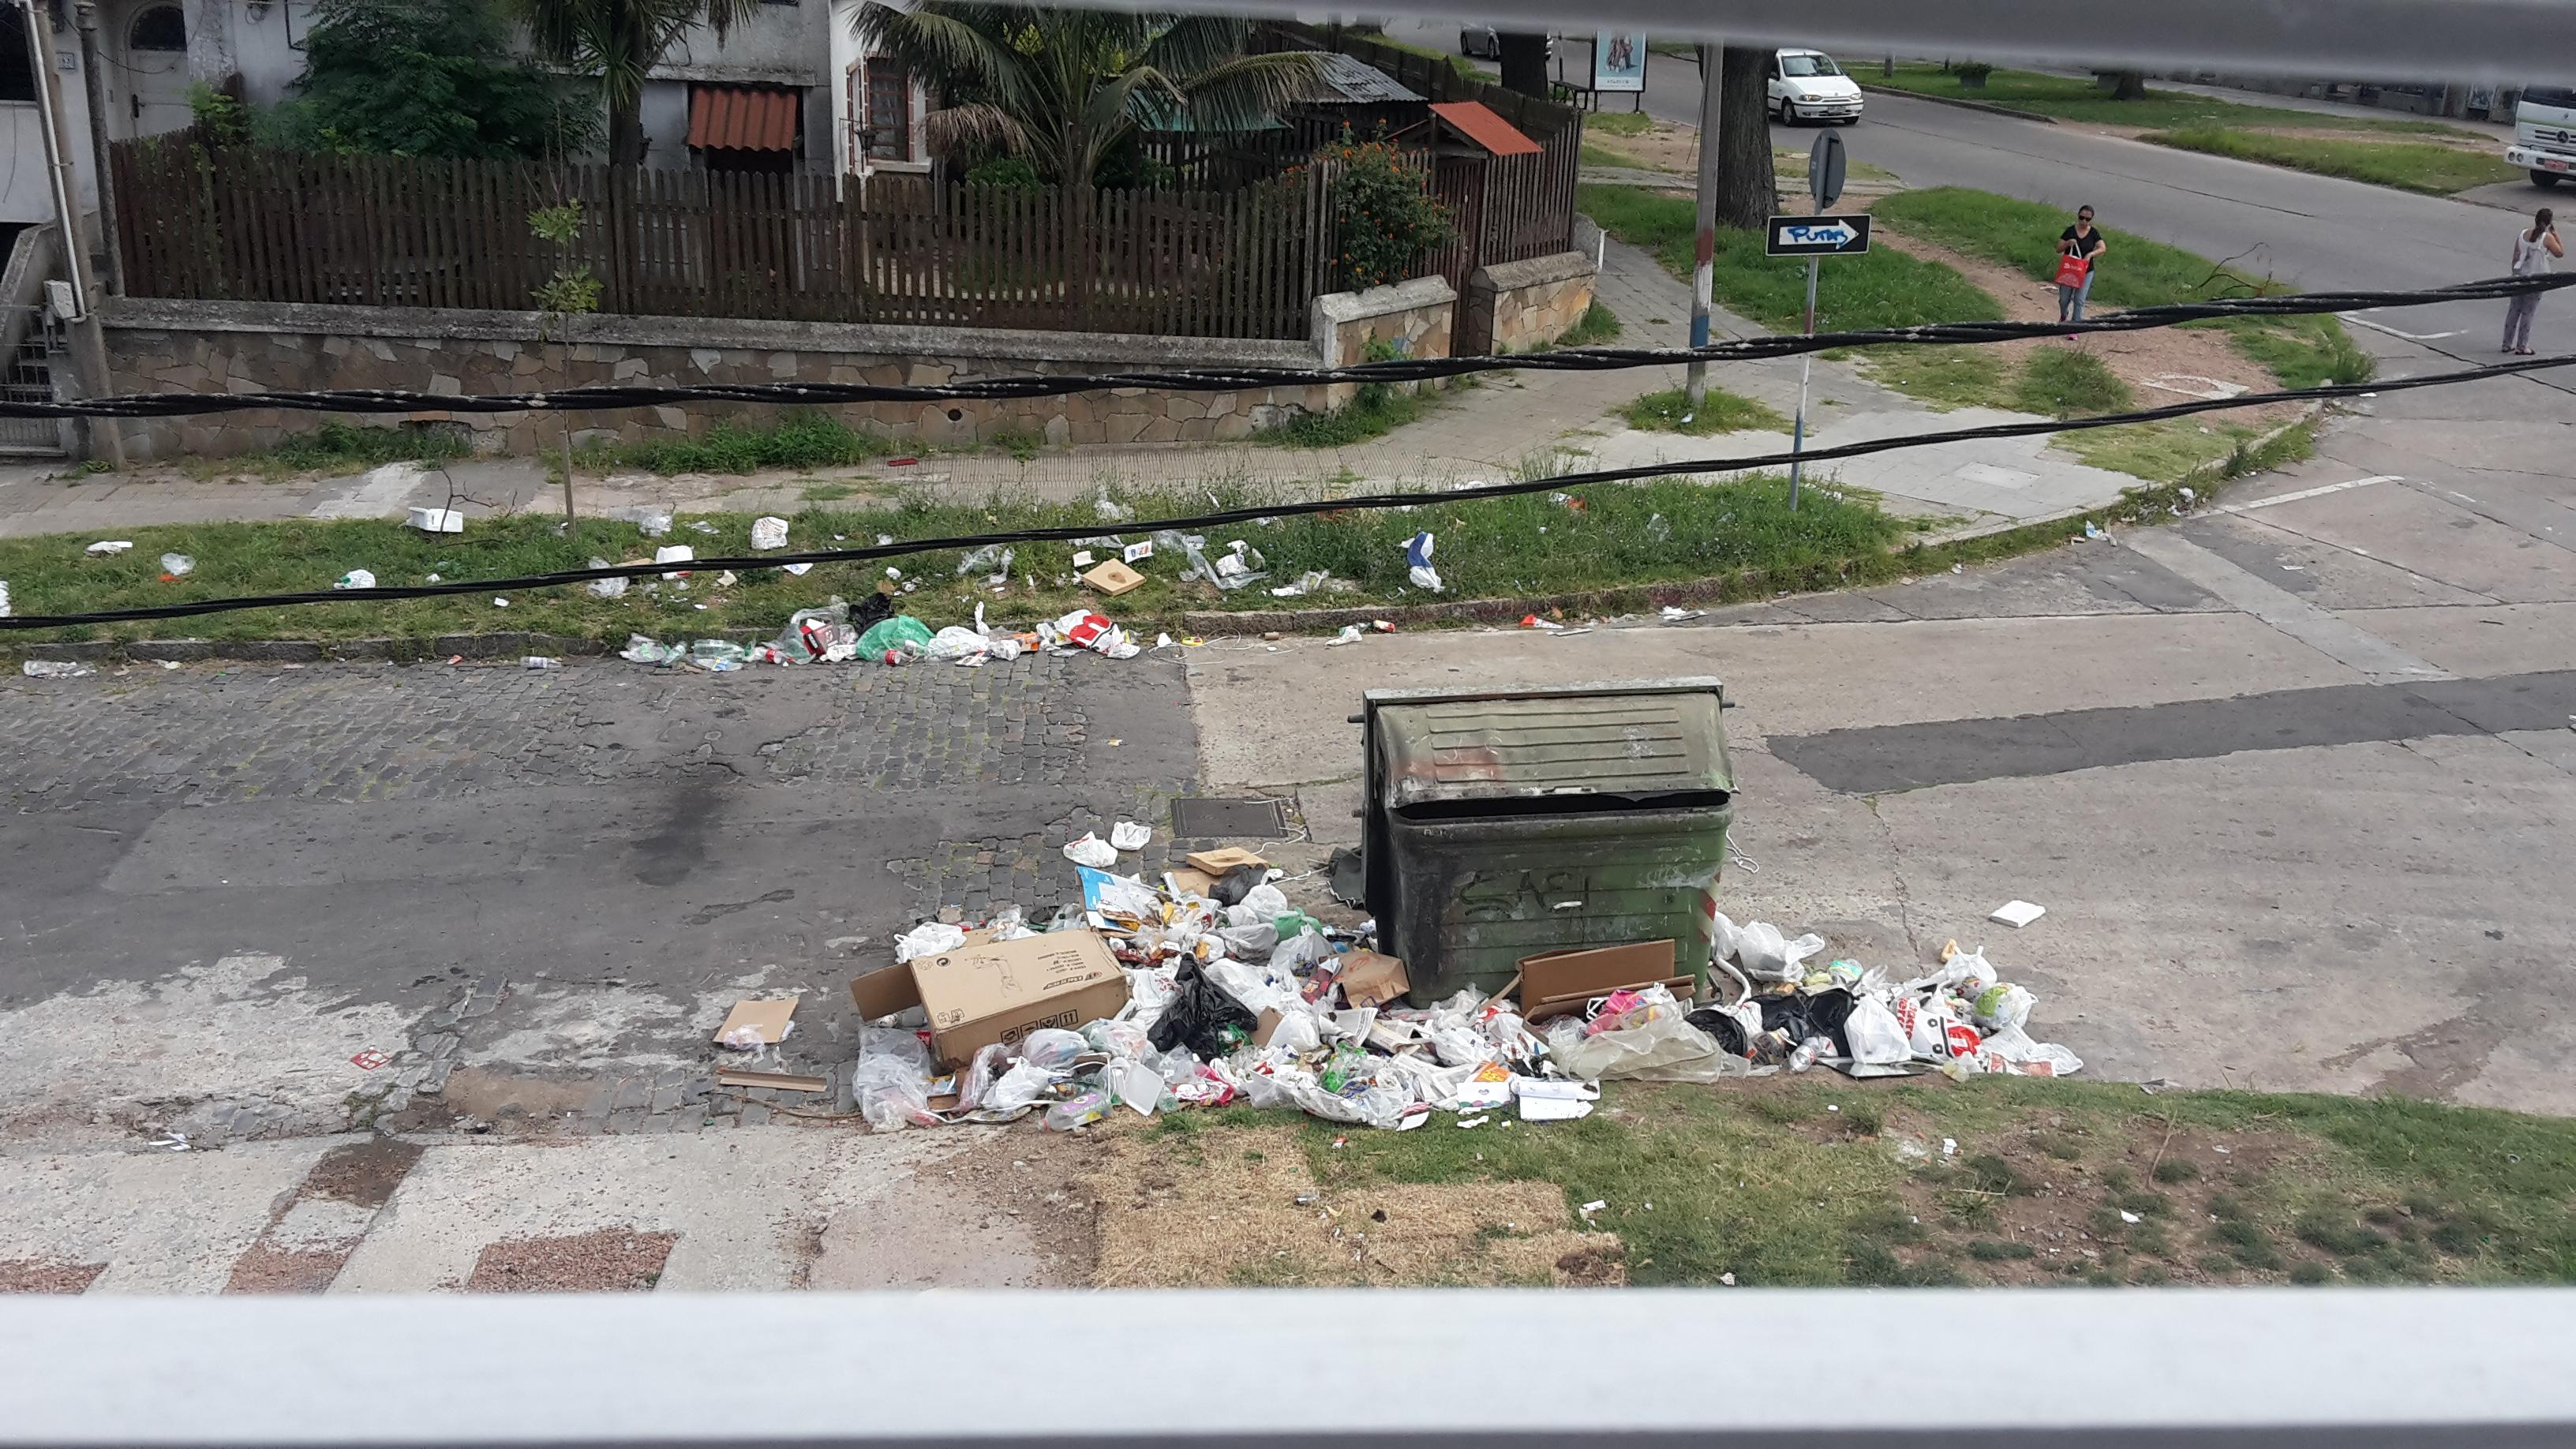Dechets: (384, 497, 1449, 671), (858, 826, 1378, 1180), (1361, 998, 2086, 1123), (1718, 890, 2074, 1023)
Trash: (1362, 679, 1723, 1008), (1063, 835, 1292, 943), (1514, 1076, 1603, 1136), (1852, 994, 1913, 1081), (1042, 603, 1129, 656), (405, 490, 469, 543), (752, 511, 793, 556), (80, 533, 138, 559), (161, 543, 196, 582), (331, 568, 380, 591)
